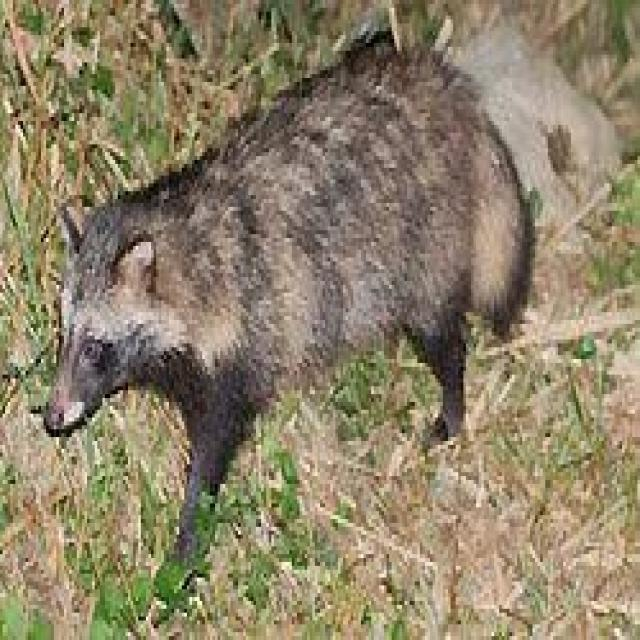racoon: (57, 52, 540, 556)
